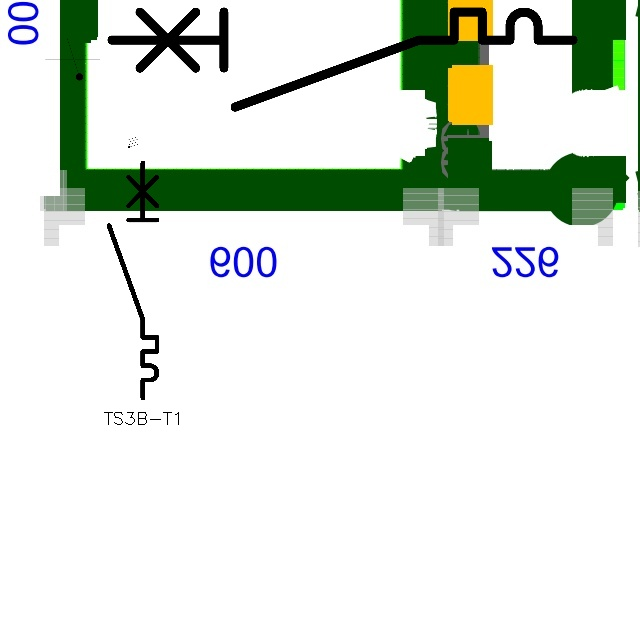interruptor_termomagnetico: (99, 0, 584, 119), (103, 157, 163, 404)
